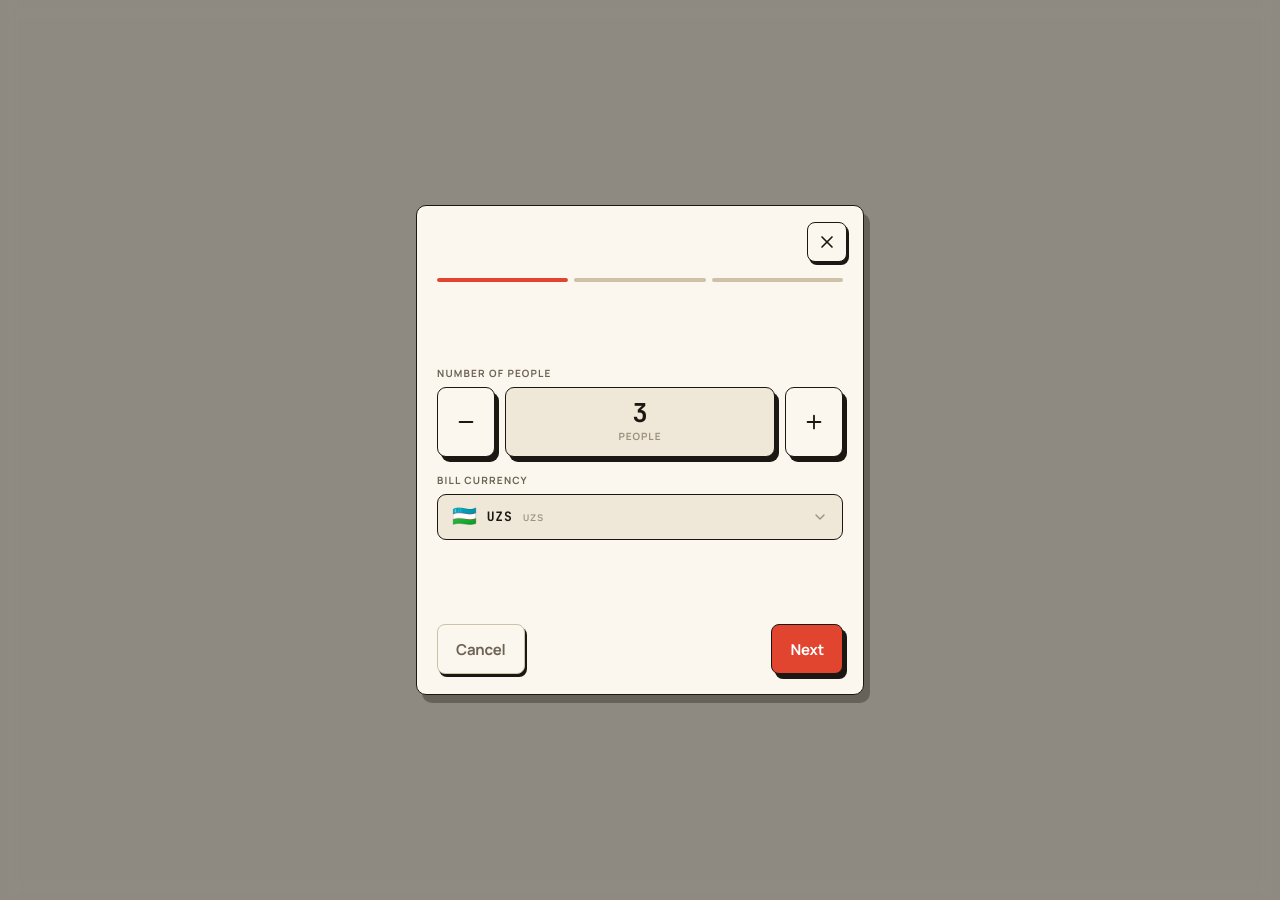
Test: CreateBillWizard — three steps › walks forward through payment to the source step
The image size is (1280, 900).
Click the button "Next" at (807, 649), box [771, 624, 843, 674]
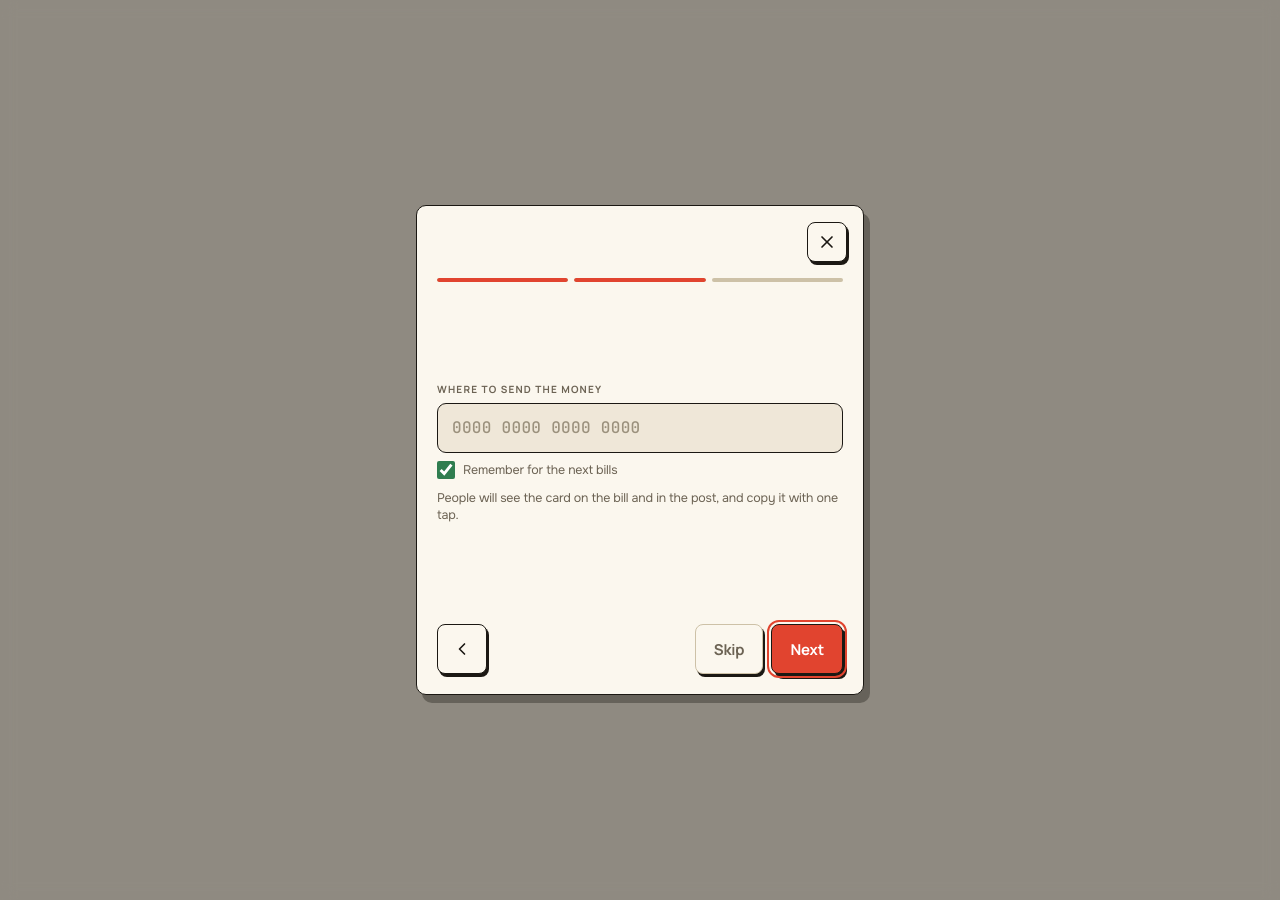
Expected: the text "Where to send the money" is shown, [437, 382, 602, 396]
Click the button "Next" at (807, 649), box [771, 624, 843, 674]
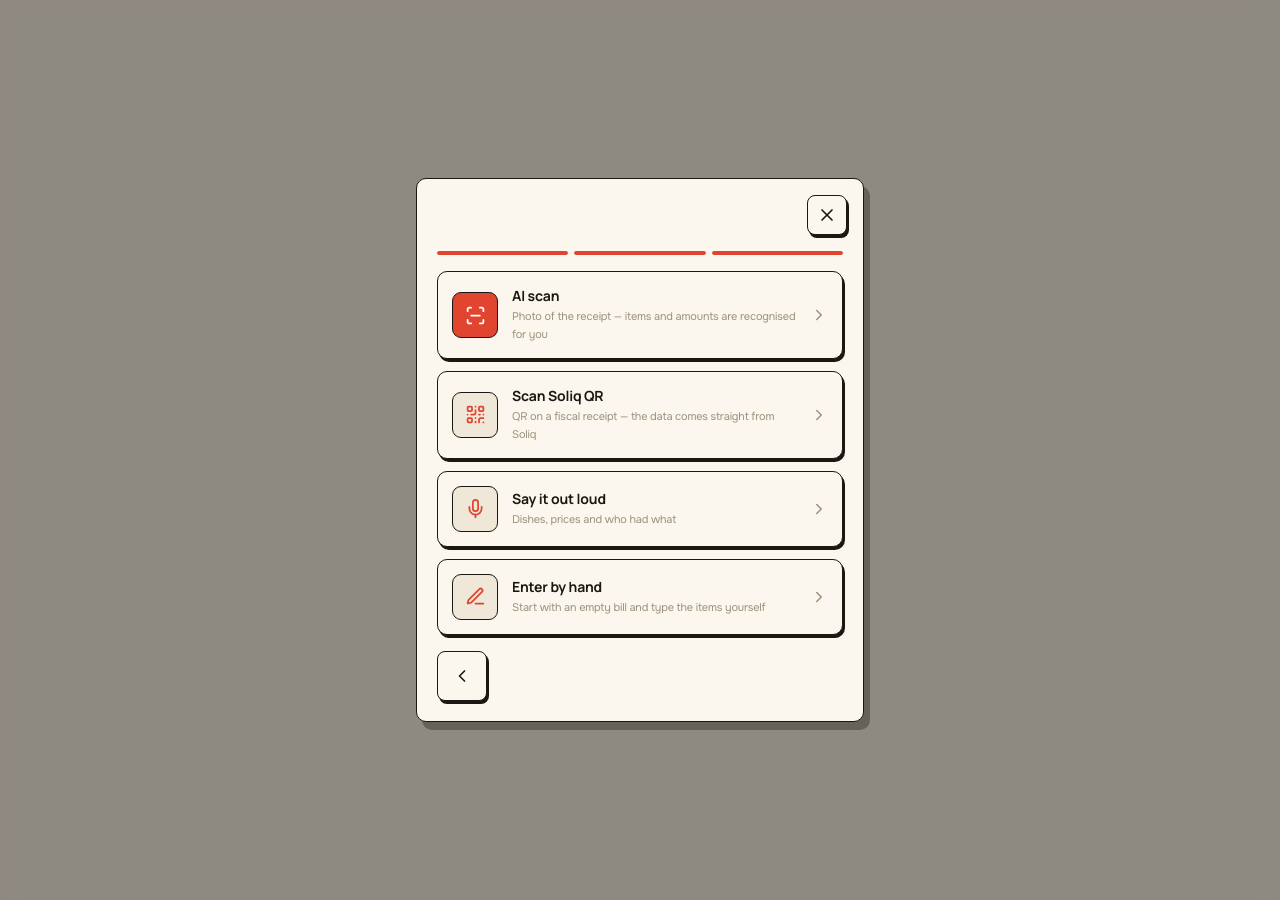
Expected: the text "Enter by hand" is shown, [512, 577, 602, 596]
